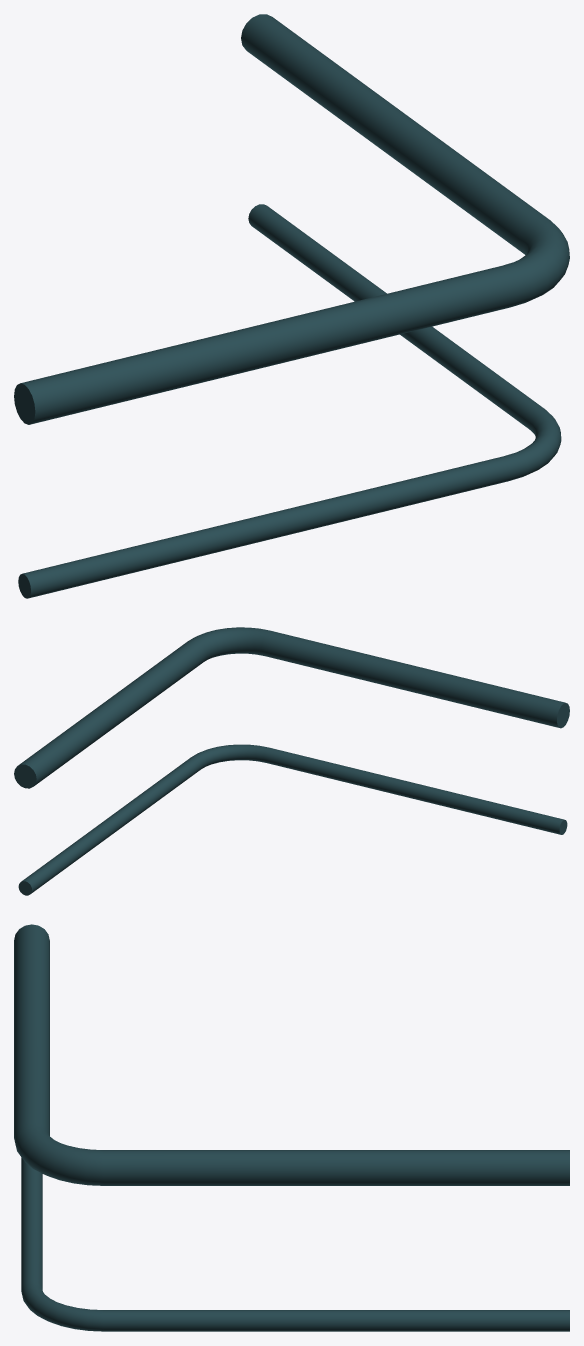
File: city_quay_furniture_02_corner.glb
3 views of the same model, one above another, from view 1: azimuth 30°, elevation 25°; view 2: azimuth 150°, elevation 25°; view 3: azimuth 270°, elevation 25° (orthographic). The views are drawn at different scales.
Parts seen in each view (by area): view 1: CityQuayFurniture02_corner_Mesh; view 2: CityQuayFurniture02_corner_Mesh; view 3: CityQuayFurniture02_corner_Mesh.
Boxes of the visible parts, x1,y1,x2,y2 form: CityQuayFurniture02_corner_Mesh: (14, 14, 569, 598); CityQuayFurniture02_corner_Mesh: (14, 627, 569, 895); CityQuayFurniture02_corner_Mesh: (14, 924, 569, 1331).
Size of the model in its own units: 1.55 by 0.55 by 1.55.
